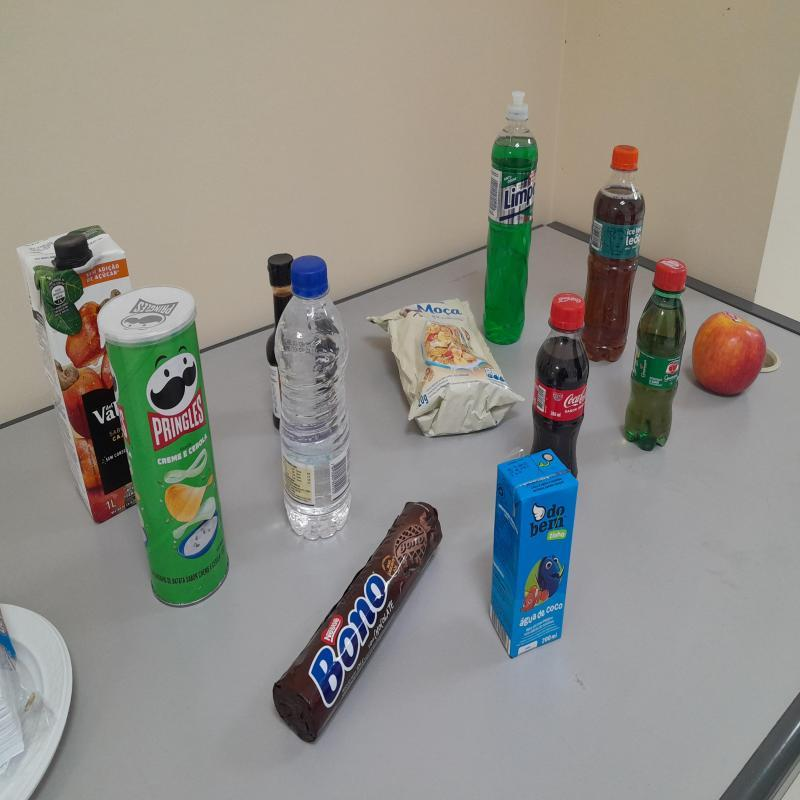Apple: (694, 310, 770, 397)
Cleaner: (483, 90, 540, 349)
CoconutWater: (485, 446, 577, 660)
Coke: (530, 295, 592, 474)
Cookies: (275, 500, 443, 747)
CornFlakes: (367, 296, 520, 440)
EnglishSauce: (269, 254, 294, 346)
Guarana: (623, 258, 687, 452)
IceTea: (582, 147, 647, 364)
Pringles: (95, 286, 234, 608)
Water: (273, 254, 354, 542)
